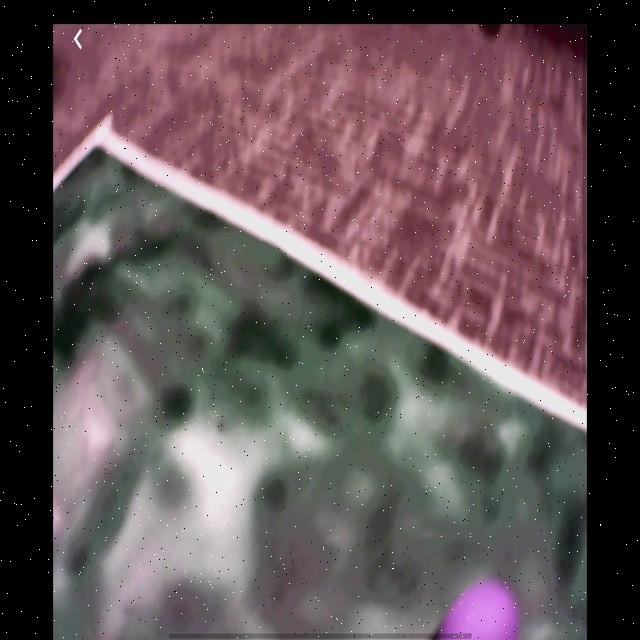ball: (438, 577, 522, 639)
